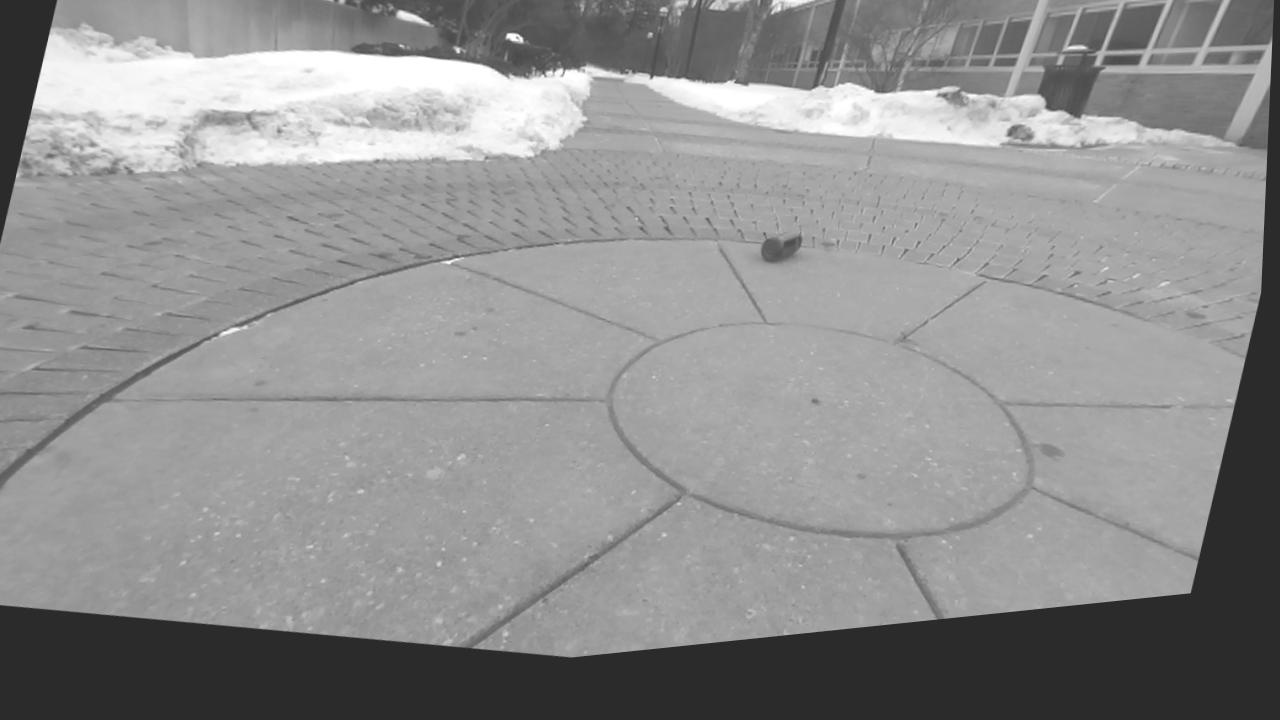bottle: (760, 232, 800, 261)
